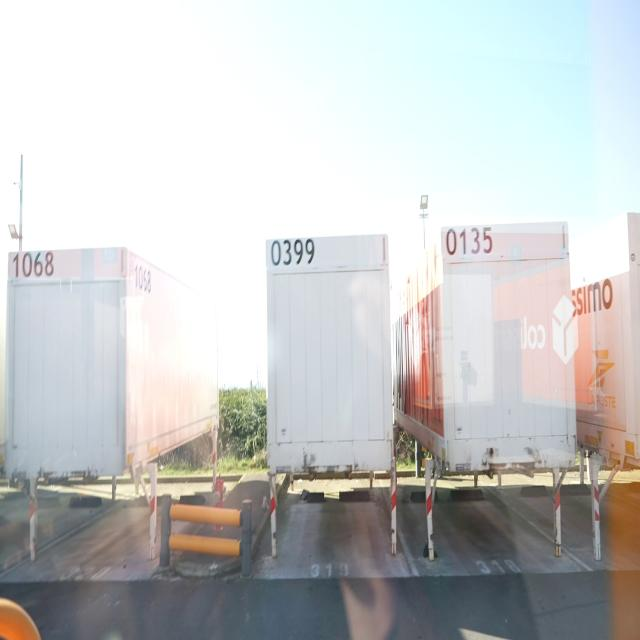Code: (443, 220, 495, 264), (266, 232, 317, 273), (10, 246, 58, 284), (130, 255, 155, 298)
